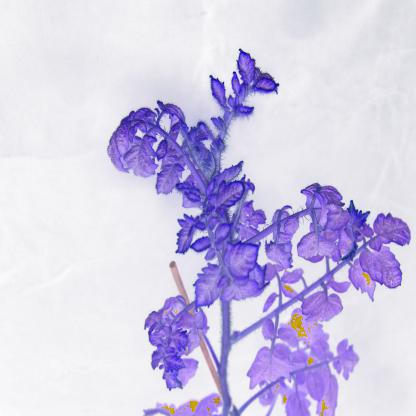tomato leaf yellow virus: (223, 235, 266, 286), (370, 208, 412, 255), (355, 246, 402, 288), (191, 263, 221, 315), (151, 159, 182, 198), (211, 178, 246, 211), (135, 131, 158, 177), (172, 216, 199, 255), (234, 39, 256, 86), (162, 363, 185, 397), (253, 73, 283, 96), (165, 324, 190, 348), (133, 102, 155, 125), (164, 353, 188, 370)
